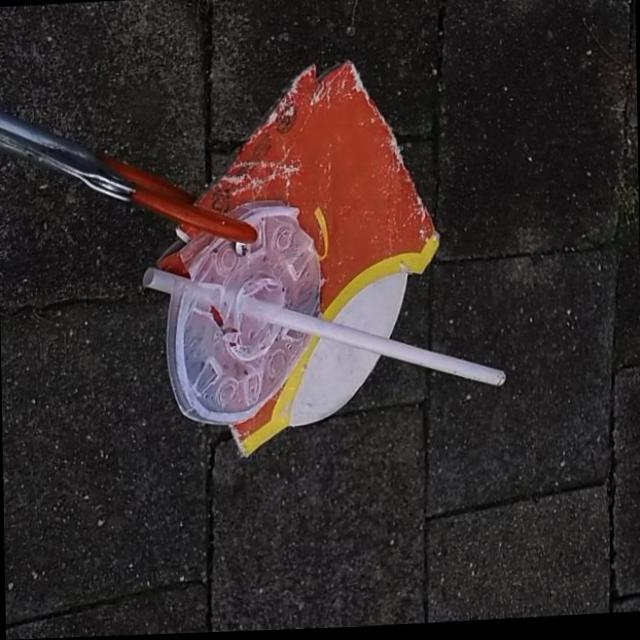Paper: (151, 56, 446, 463)
